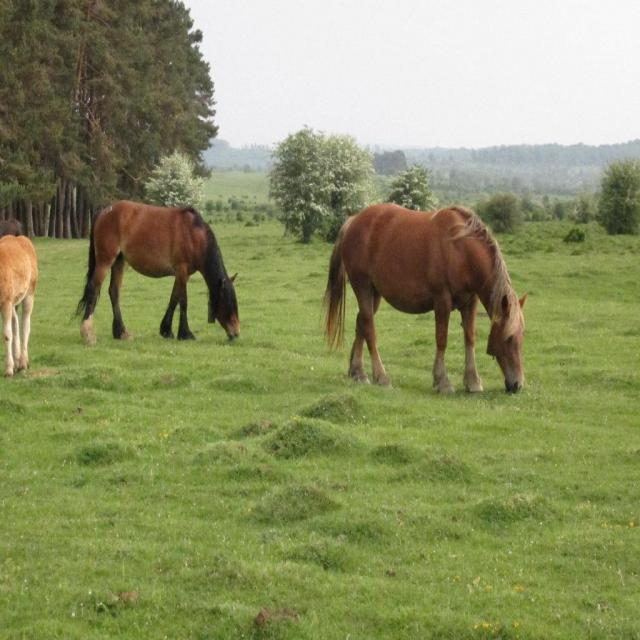Horse: (317, 205, 527, 401), (66, 201, 242, 345)
